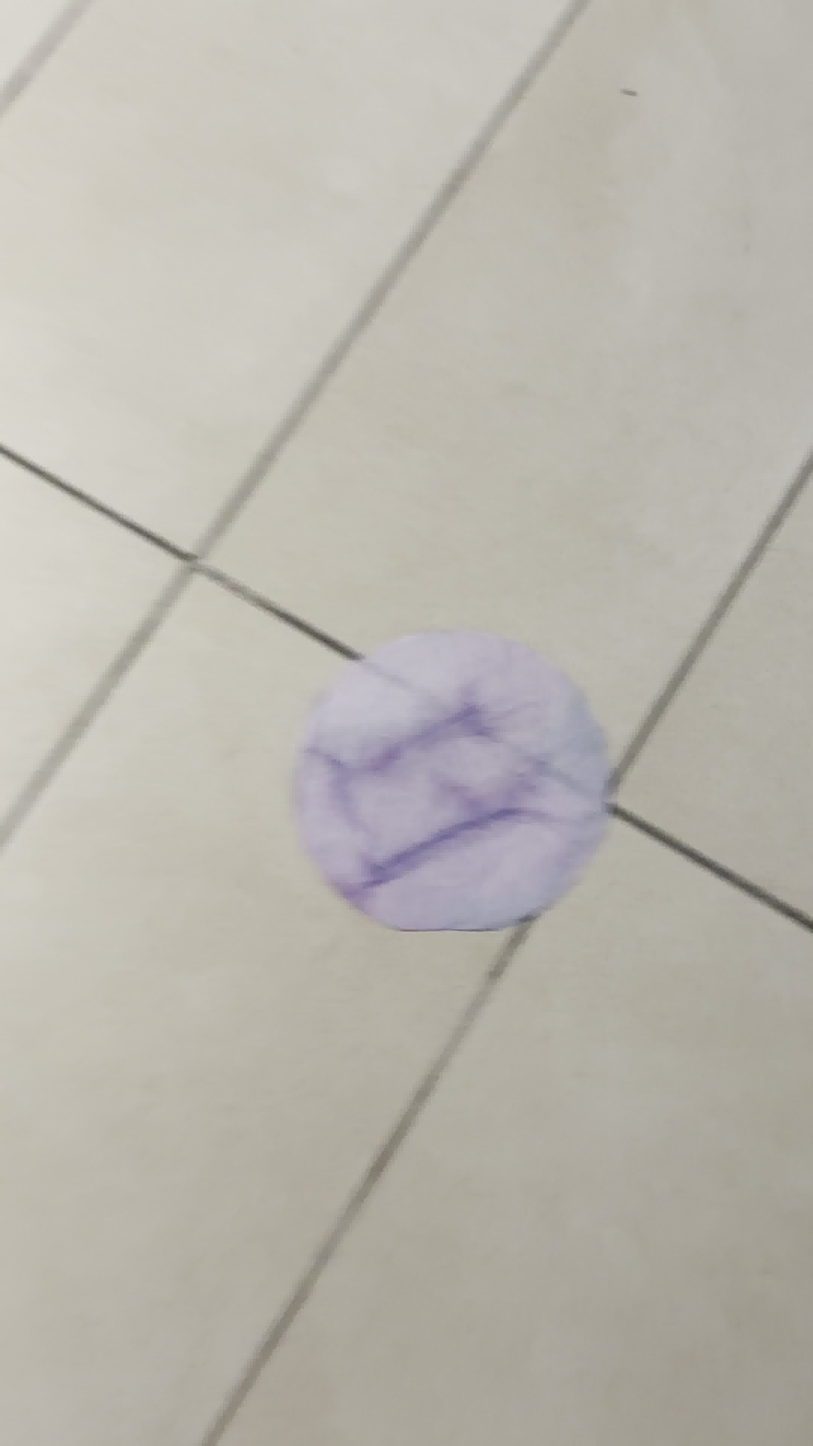Target: (287, 632, 613, 933)
